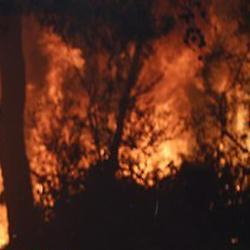fire: (132, 139, 183, 178)
